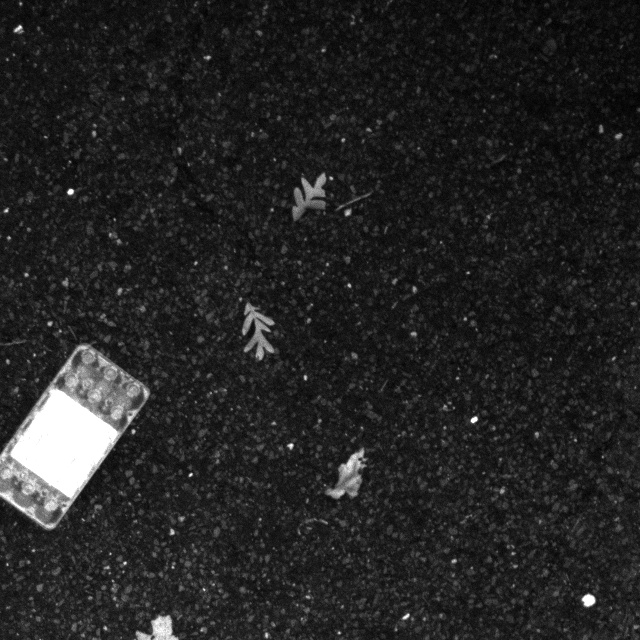container: (0, 341, 153, 538)
